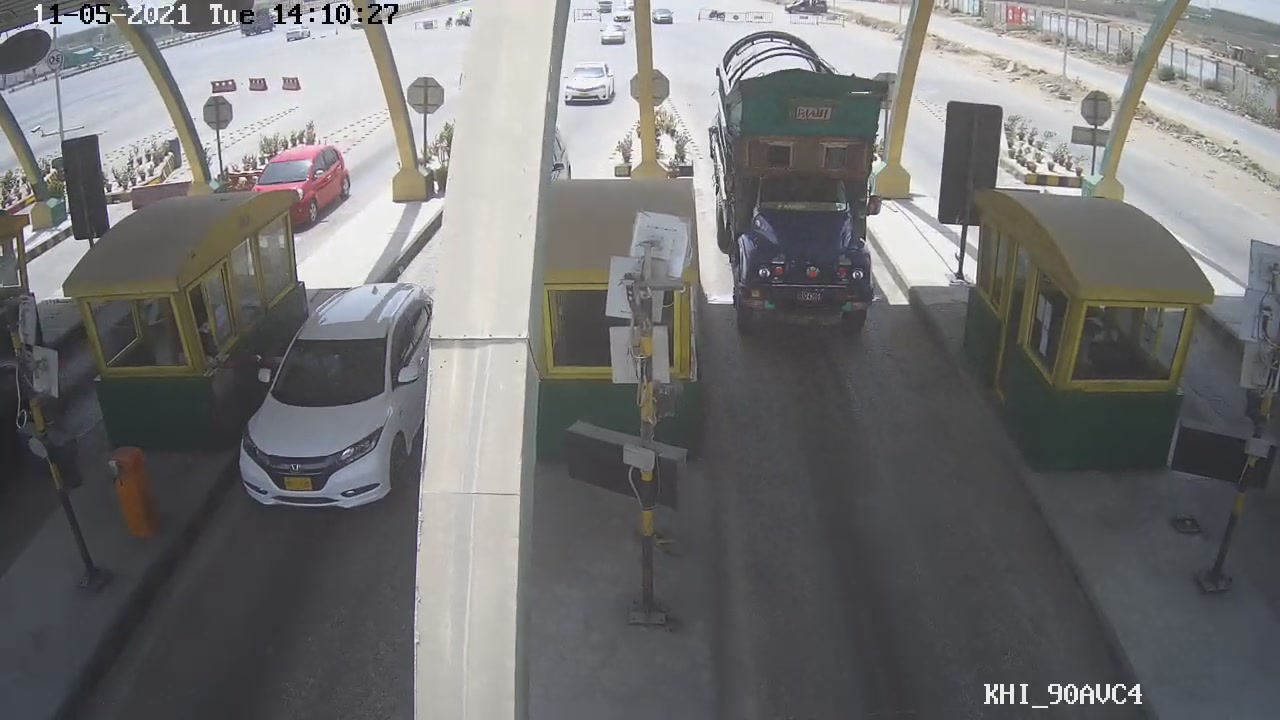F5: (701, 31, 898, 348)
